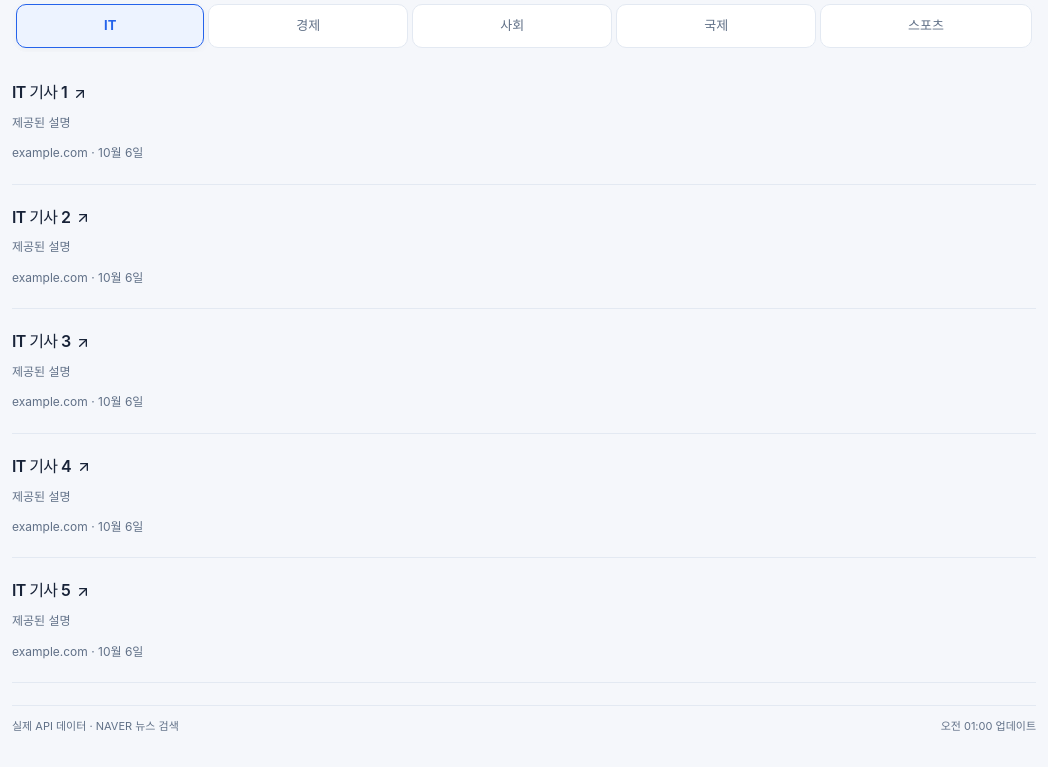
Test: 일부 분야 오류는 다른 분야를 유지하고 재시도는 실패한 분야만 조회한다
This screenshot has width=1048, height=767.
Expected: the link "IT 기사 1" is shown, [12,82,88,102]
Click the tab "사회".
click(512, 26)  # box [412,4,612,48]
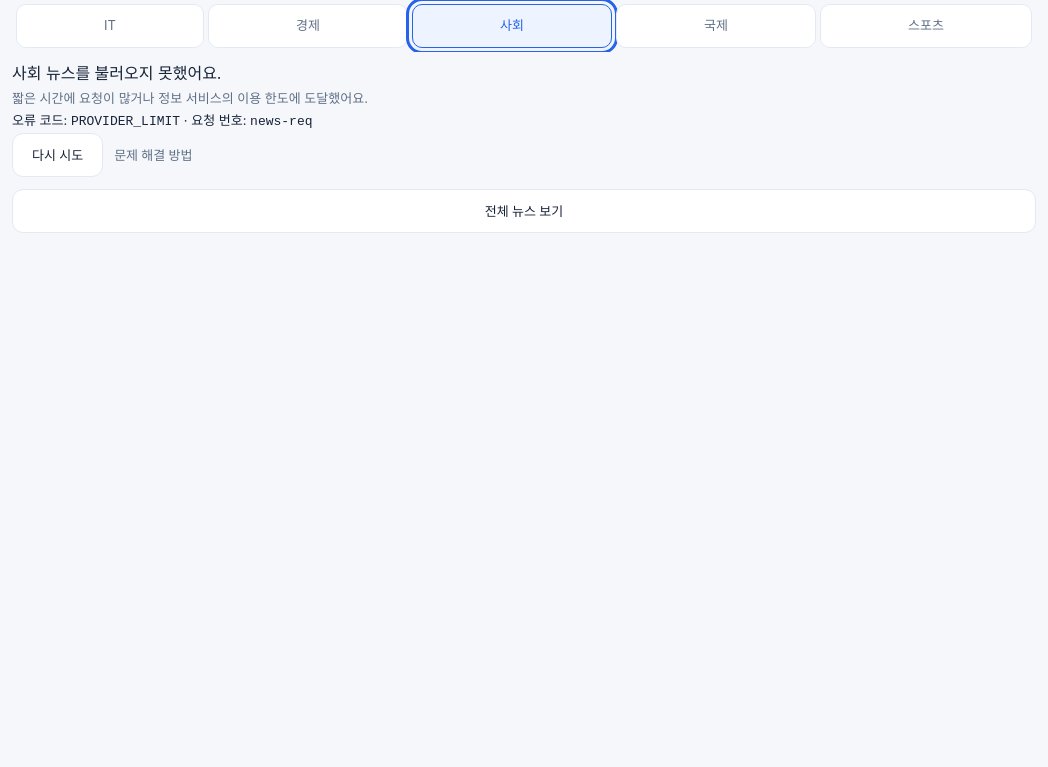
Expected: the text "사회 뉴스를 불러오지 못했어요." is shown, [12,63,222,83]
Click the button "다시 시도".
click(58, 155)  # box [12,133,103,177]
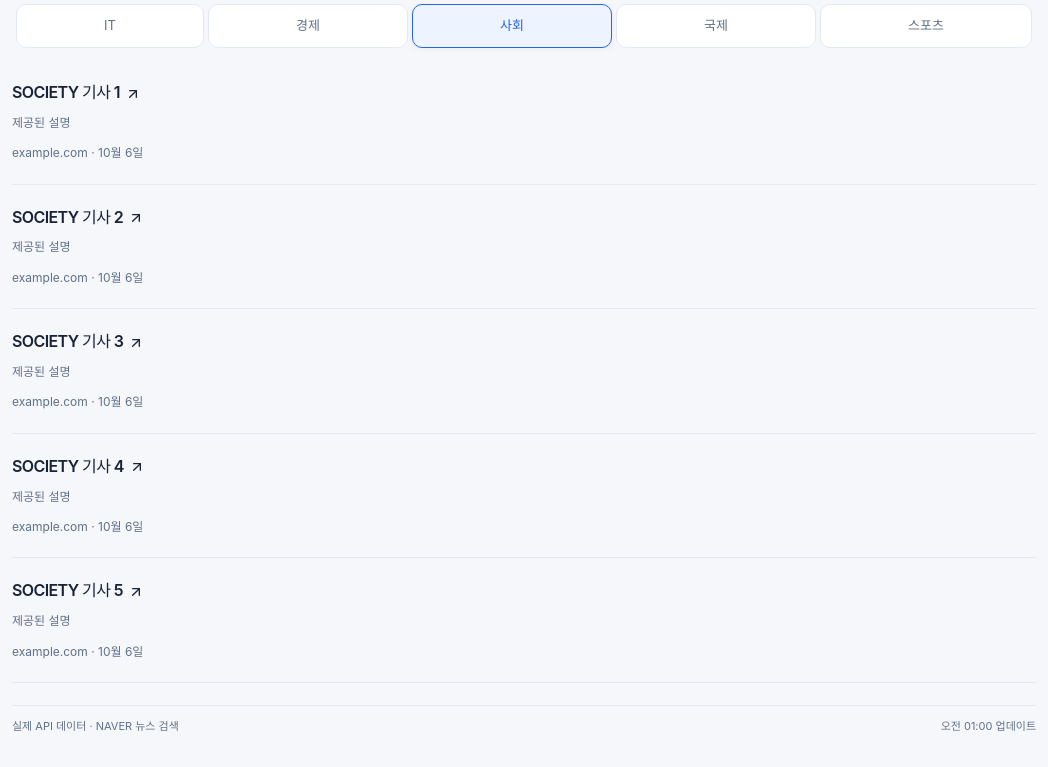
Expected: the link "SOCIETY 기사 1" is shown, [12,82,141,102]
Click the tab "IT".
click(110, 26)  # box [16,4,204,48]
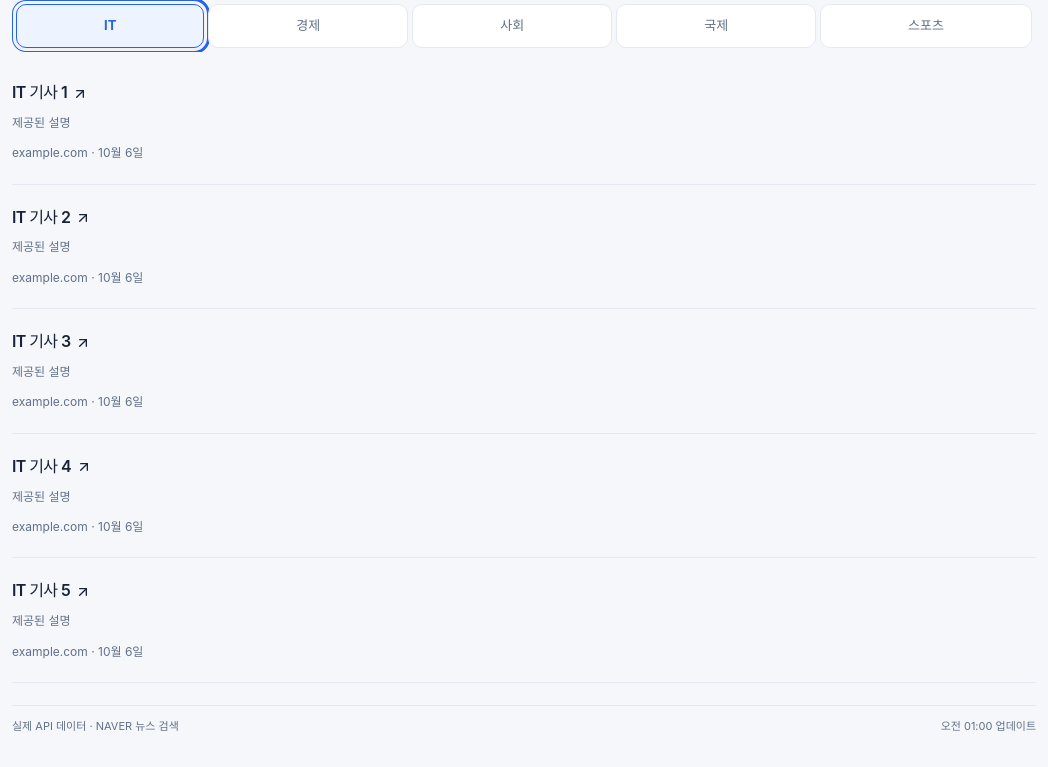
Expected: the link "IT 기사 1" is shown, [12,82,88,102]
